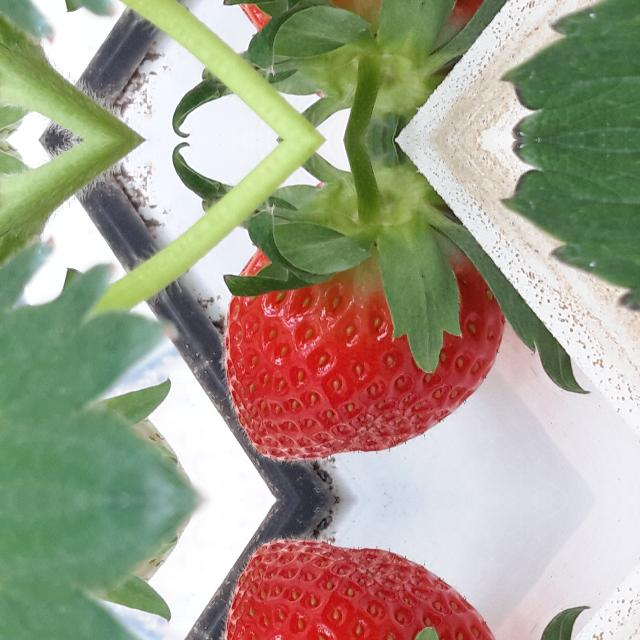Health_100: (224, 224, 506, 461), (224, 539, 505, 640), (224, 0, 505, 56)
